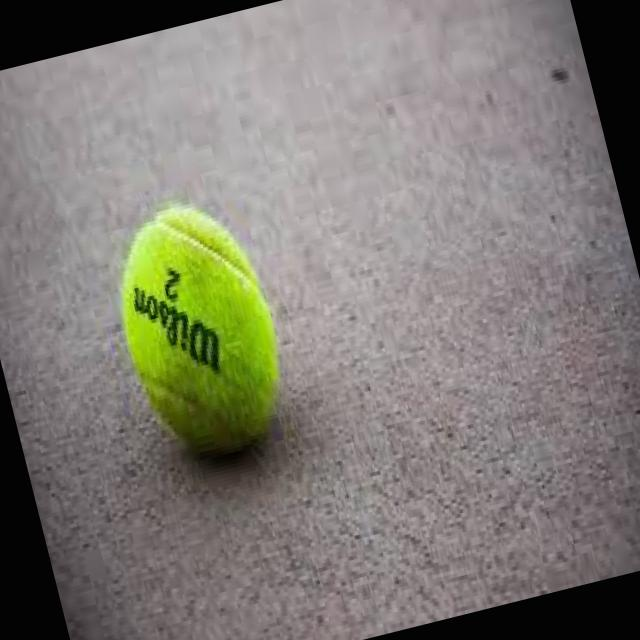tennis-ball: (100, 188, 298, 462)
